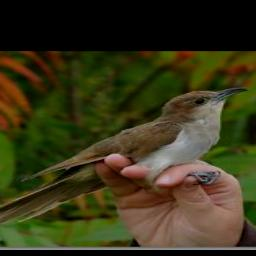Cuckoo: (0, 87, 249, 230)
